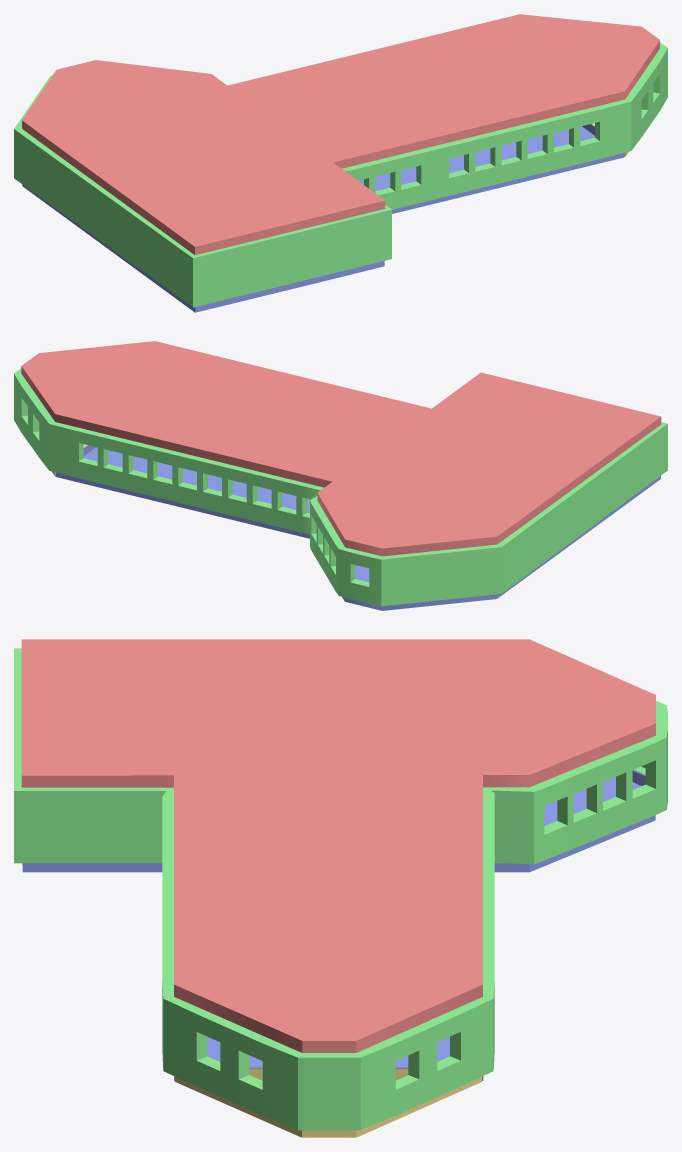
Rendered from 3IE_pieceShell.FBX.
3 views of the same model, one above another, from view 1: azimuth 30°, elevation 25°; view 2: azimuth 150°, elevation 25°; view 3: azimuth 270°, elevation 25° (orthographic). The views are drawn at different scales.
Visible parts, largest first — view 1: plafond, murs, SOL_moquette; view 2: plafond, murs, SOL_moquette; view 3: plafond, murs, SOL_moquette, SOL_parquet.
Boxes of the visible parts, x1=… form: plafond: x1=22, y1=14, x2=659, y2=255; murs: x1=14, y1=42, x2=667, y2=307; SOL_moquette: x1=22, y1=124, x2=624, y2=312; plafond: x1=21, y1=341, x2=661, y2=556; murs: x1=14, y1=368, x2=667, y2=606; SOL_moquette: x1=55, y1=445, x2=660, y2=610; plafond: x1=21, y1=639, x2=655, y2=1052; murs: x1=14, y1=648, x2=667, y2=1130; SOL_moquette: x1=22, y1=769, x2=655, y2=1080; SOL_parquet: x1=175, y1=1068, x2=481, y2=1137.
Size of the model in its own units: 1289 by 142 by 867.
